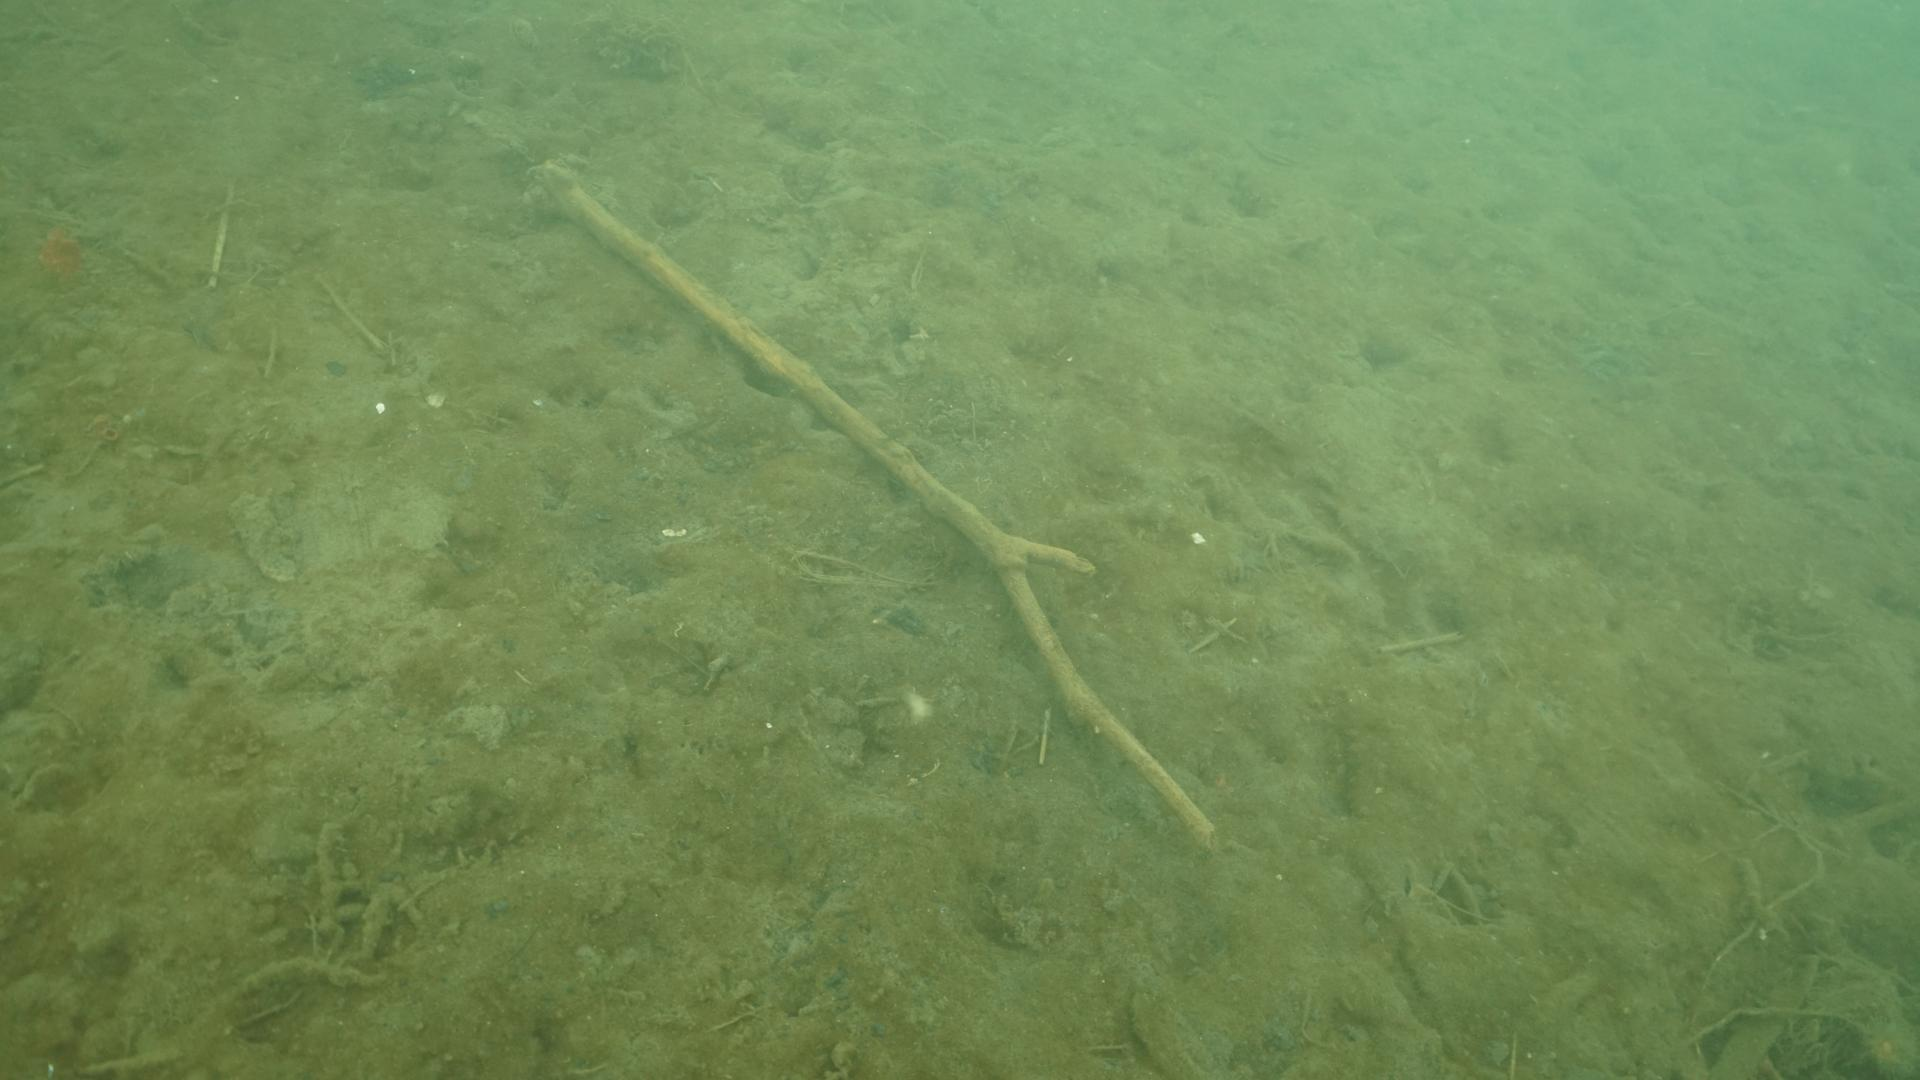wood: (529, 157, 1218, 844)
